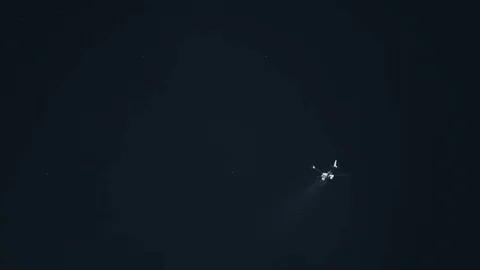Plane: (293, 151, 354, 195)
